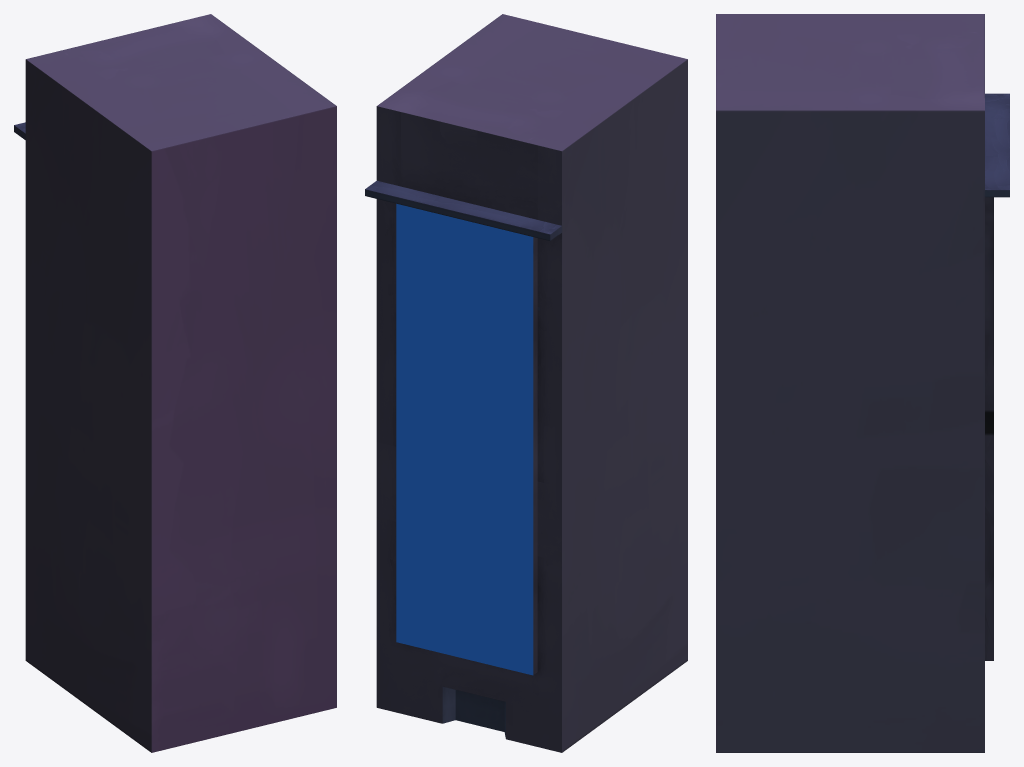
Rendered from Big Building 4.fbx.
3 renders of one model, left to right at view 1: azimuth 30°, elevation 25°; view 2: azimuth 150°, elevation 25°; view 3: azimuth 270°, elevation 25°, orthographic. The views are drawn at different scales.
Visible parts, largest first — view 1: FinalBuilding_Big_4; view 2: FinalBuilding_Big_4; view 3: FinalBuilding_Big_4.
Part boxes in pixels (x1,y1,x2,y2): FinalBuilding_Big_4: (14,14,336,752); FinalBuilding_Big_4: (365,14,687,752); FinalBuilding_Big_4: (716,14,1009,752).
Size of the model in its own units: 8.68 by 26.93 by 11.17.
